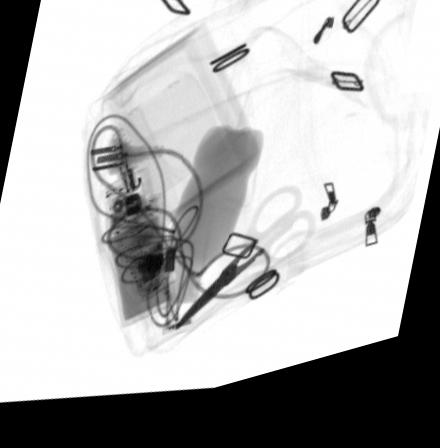Powerbank: (101, 207, 178, 336)
Scissors: (168, 201, 316, 346)
